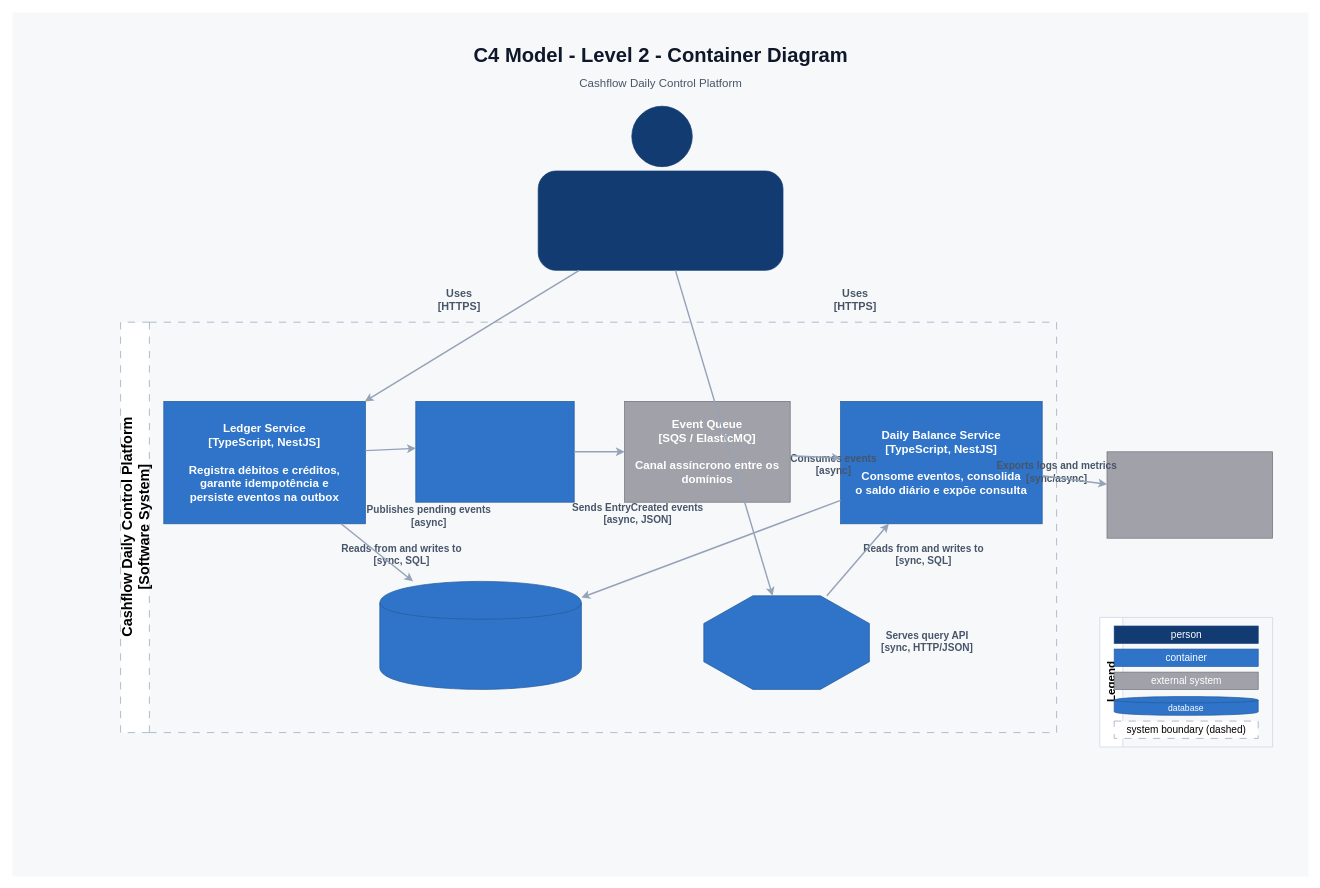
This 1320x888 diagram has some shape labels left out. Each missing label, with the centre of its shape:
"Comerciante Registra movimentações financeiras e consulta o saldo diário" belongs at point 660,220.
"Database [PostgreSQL] Lançamentos, idempotência, outbox e read model" belongs at point 480,635.
"Observability / Alerts Logs, métricas e alarmes" belongs at point 1189,494.
"Outbox Publisher [Worker] Publica eventos pendentes" belongs at point 494,451.
"Public API [HTTP / JSON] Endpoints de entrada e consulta" belongs at point 786,642.
